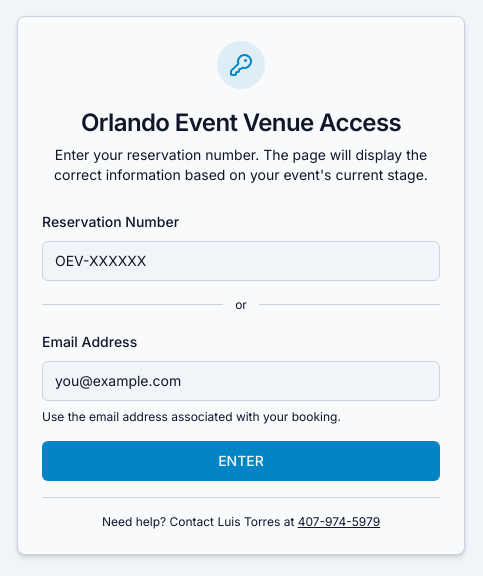
Test case: AccessCode — already-submitted state › shows 'Report Already Submitted' when host_report_step === 'completed'
Type "OEV-TEST01" into the field labelled "Reservation Number" at [241, 260], box [42, 240, 440, 280]
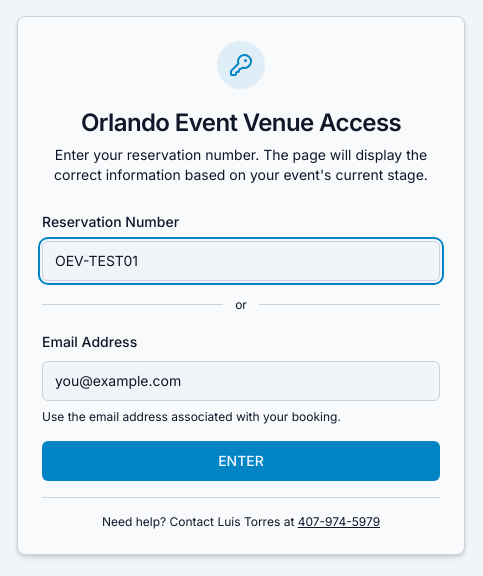
Click the button "ENTER" at [241, 460], box [42, 440, 440, 480]
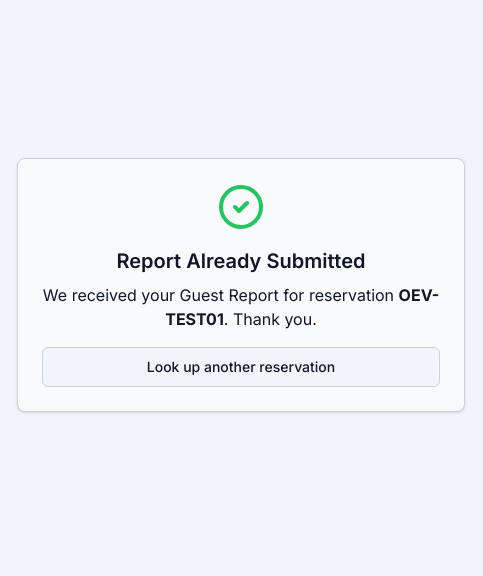
Now the heading "Report Already Submitted" is shown, box [116, 249, 366, 273]
Now the text "OEV-TEST01" is shown, box [165, 285, 439, 329]
